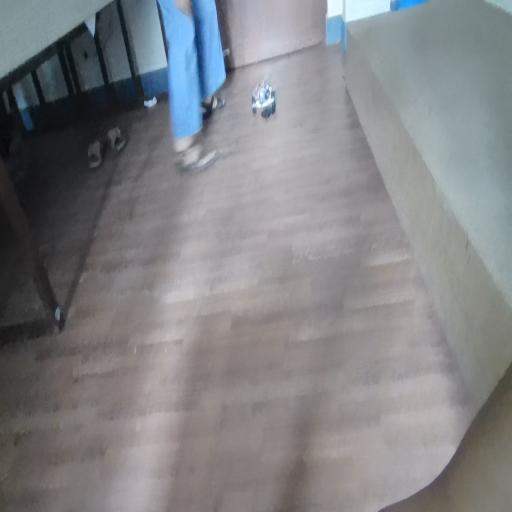car: (248, 62, 278, 117)
